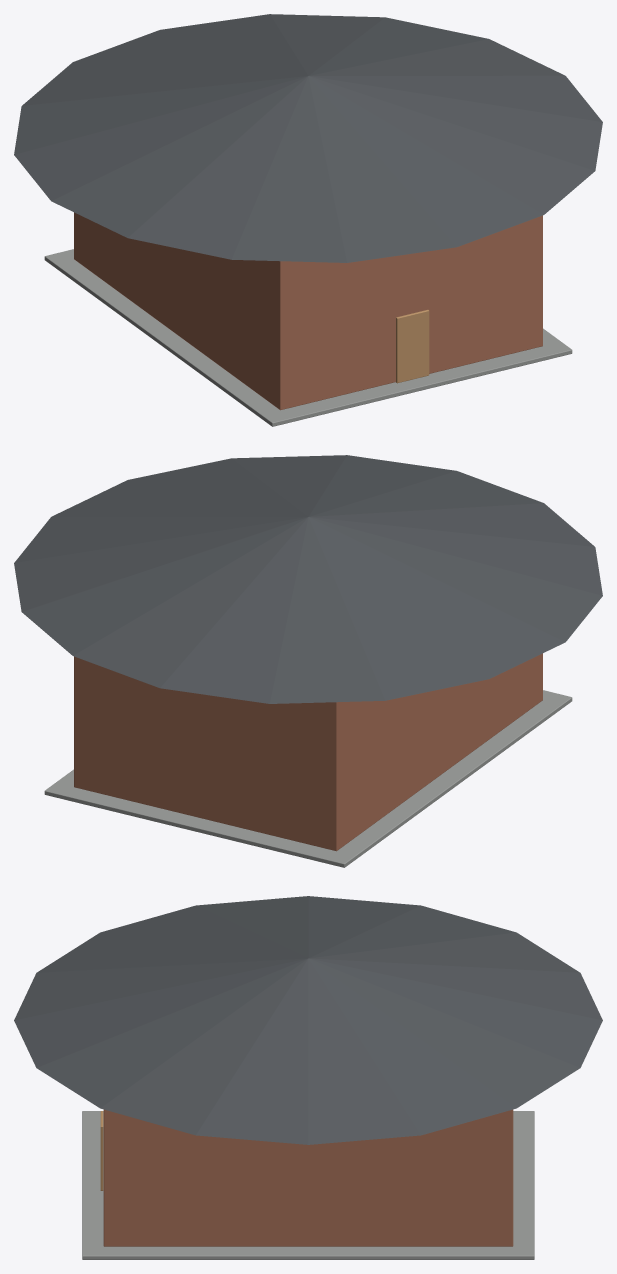
Rendered from Building_Residential_009.glb.
The picture shows the model from 3 angles, top to bottom: view 1: azimuth 30°, elevation 25°; view 2: azimuth 150°, elevation 25°; view 3: azimuth 270°, elevation 25°; orthographic projection.
Parts seen in each view (by area): view 1: Building_Residential_009; view 2: Building_Residential_009; view 3: Building_Residential_009.
Part boxes in pixels (x1,y1,x2,y2): Building_Residential_009: (14,14,602,426); Building_Residential_009: (14,455,602,867); Building_Residential_009: (14,896,602,1259).
Bounding box in the file's own units: 20.63 × 8.86 × 20.63.
